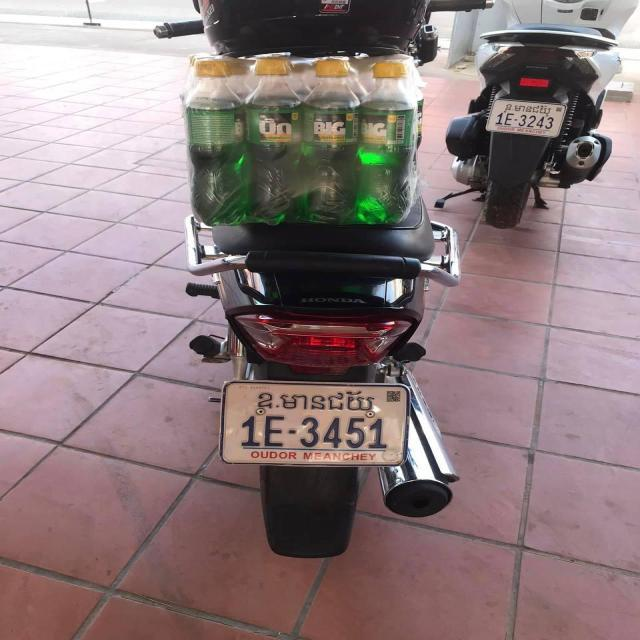Oudor_Meanchey: (259, 392, 375, 412)
